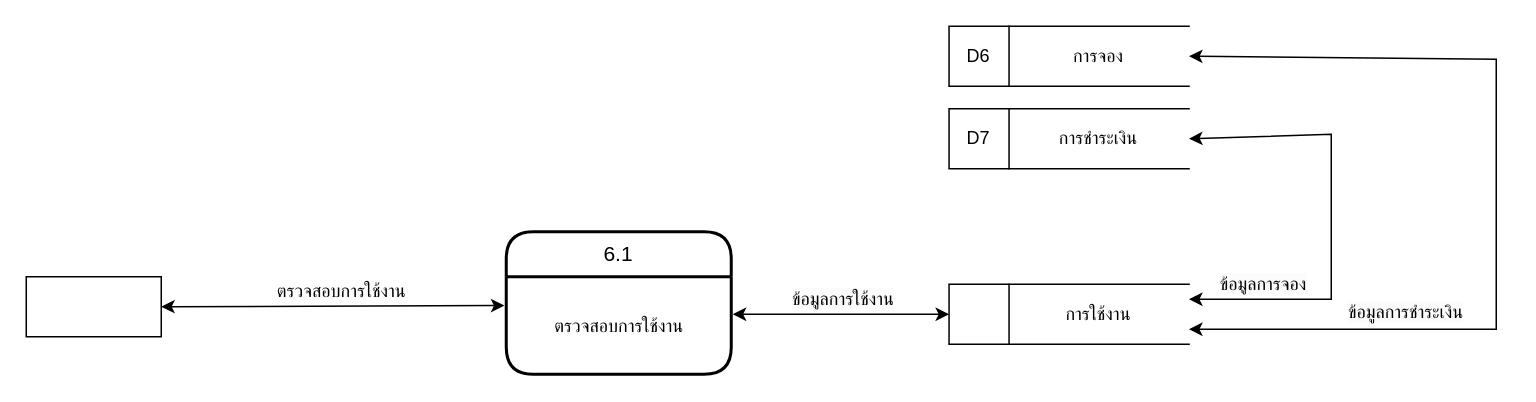
Image size: 1536x402. Some labels were removed from this diagram. Each missing label, with the box of its shape:
D8: (948, 283, 1009, 344)
ลูกค้า: (25, 275, 161, 337)
